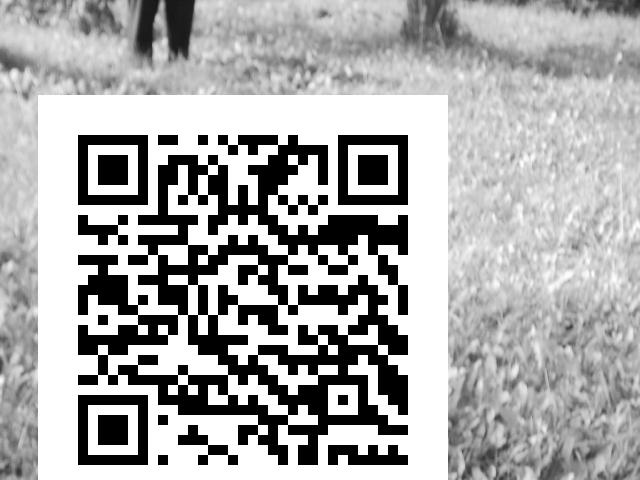qr_code: (39, 94, 448, 480)
